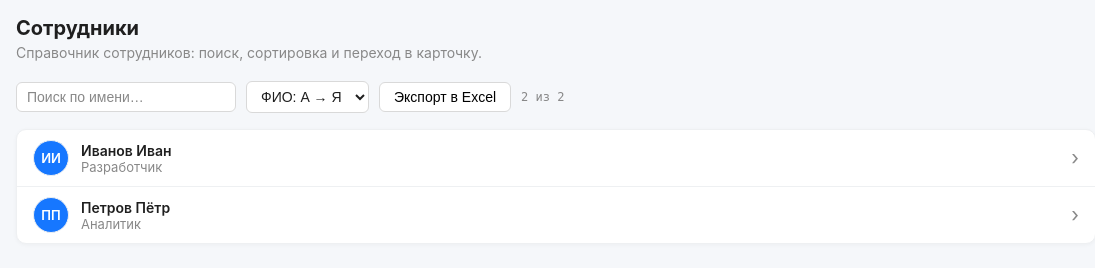
Test: EmployeesPage › открывает карточку сотрудника по клику
Click the text "Петров Пётр" at {"x": 126, "y": 207}, box [81,198,170,216]
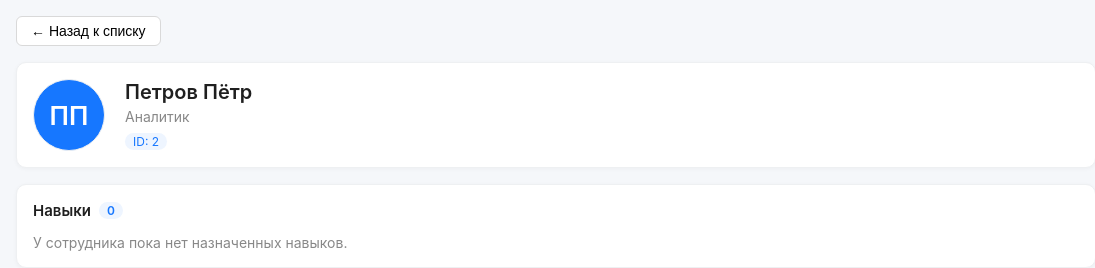
Expected: the button "← Назад к списку" is shown, [16,16,161,46]
